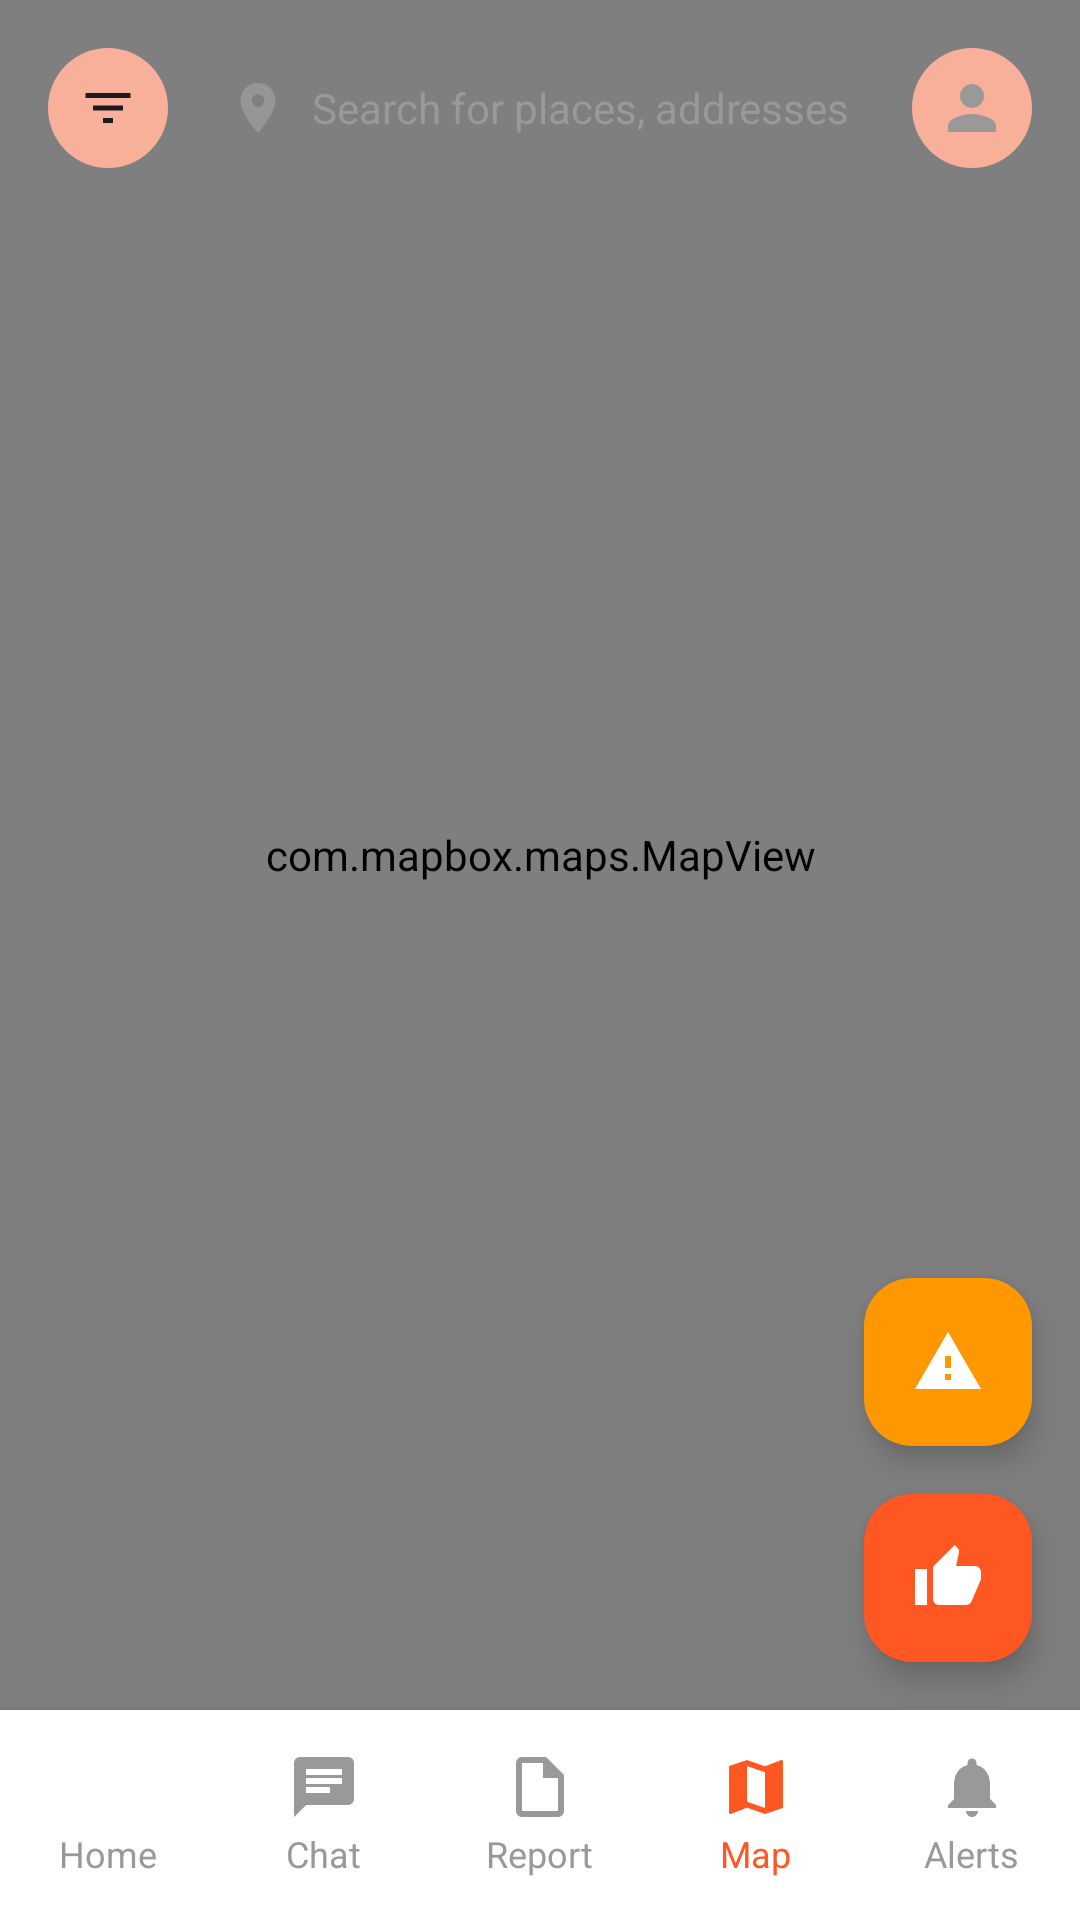

Icons on this 1080 × 1920 Android screen, each with its box as (x1, y1, x2, y2):
Alert: (864, 1278, 1032, 1446)
Filter: (48, 48, 168, 168)
Profile: (912, 48, 1032, 168)
